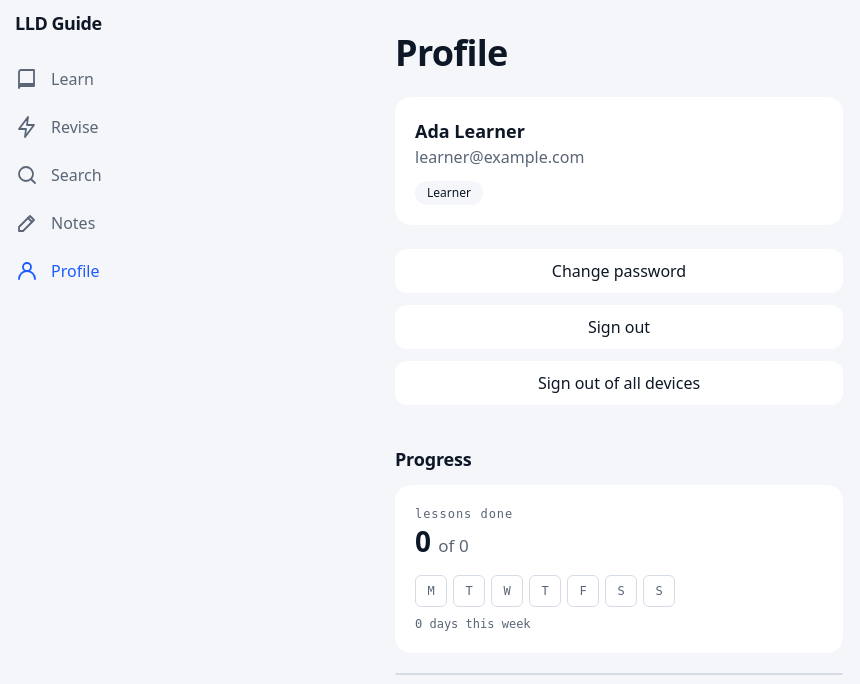
Test: Auth screens › signs out of all devices from the account panel
Click the button "Sign out of all devices": point(619, 383) x1=395 y1=361 x2=843 y2=405
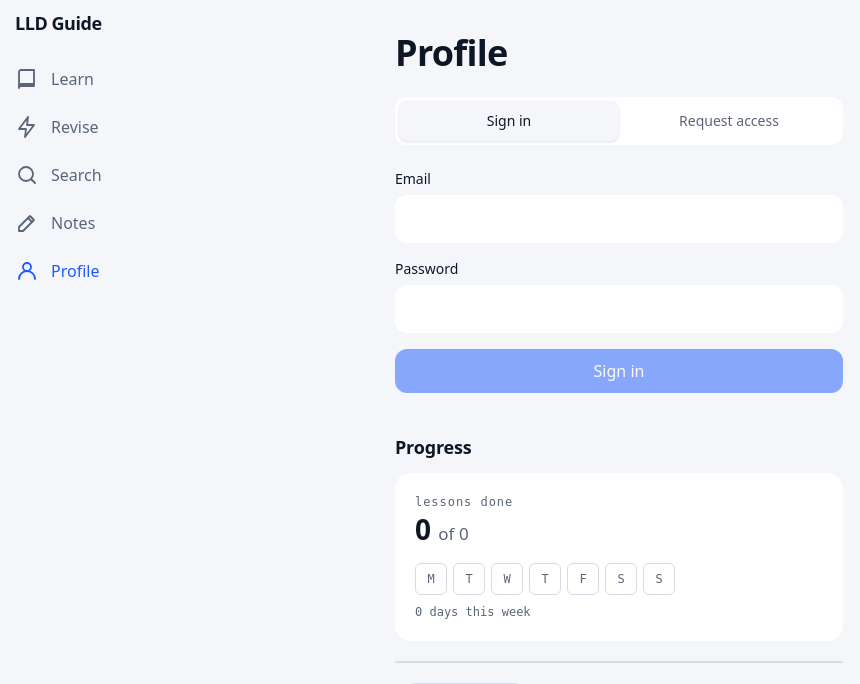
Expected: the tab "Sign in" is shown, x1=399 y1=101 x2=619 y2=141
